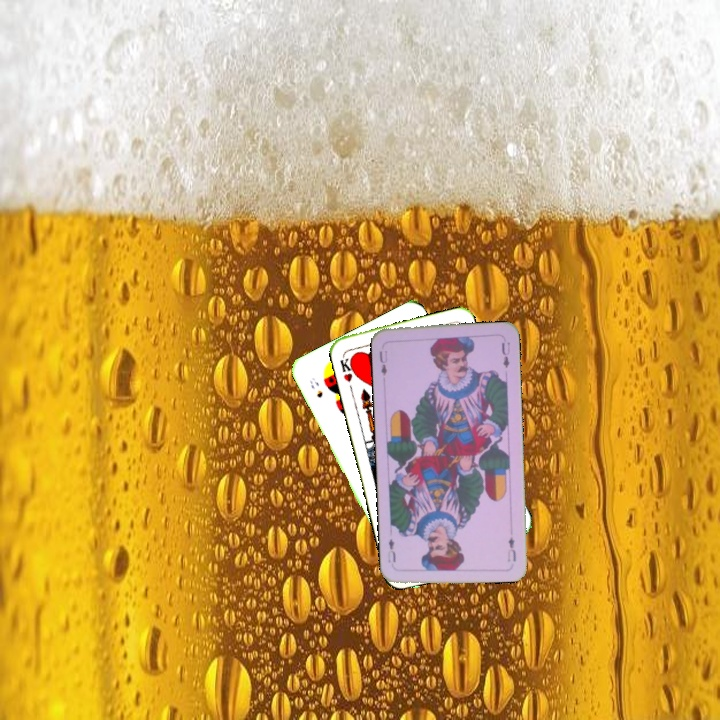EU: (375, 347, 390, 382), (503, 533, 518, 564)
HK: (336, 351, 359, 385)
S8: (306, 374, 325, 400)
